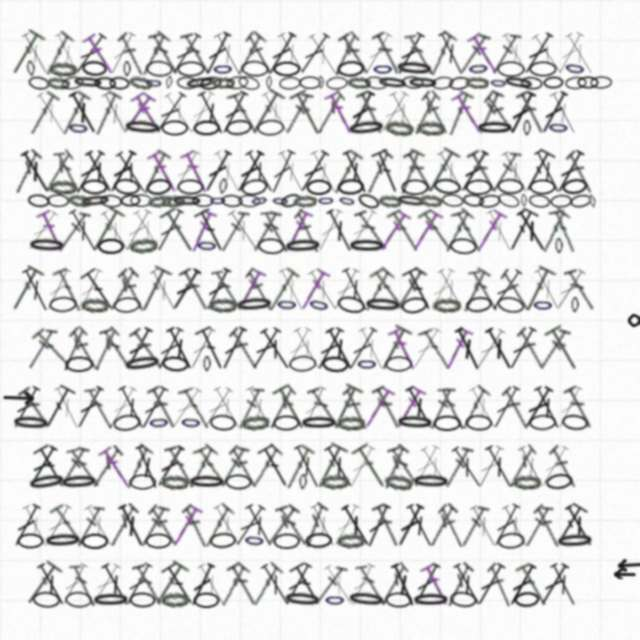chain: (26, 471, 68, 493), (122, 353, 163, 374), (346, 118, 387, 138), (394, 59, 435, 78), (122, 118, 163, 137), (234, 295, 275, 314), (282, 590, 323, 609), (346, 590, 387, 609), (283, 237, 323, 255), (363, 296, 403, 314), (11, 414, 51, 432), (59, 473, 99, 491), (555, 532, 595, 550), (27, 237, 67, 254), (395, 414, 435, 431), (411, 473, 451, 490), (43, 532, 83, 549), (475, 120, 515, 136), (347, 238, 387, 254), (299, 415, 339, 431), (187, 474, 227, 490), (91, 592, 131, 608), (411, 592, 451, 608), (336, 294, 366, 315), (383, 472, 414, 492), (502, 74, 535, 92), (240, 177, 269, 197), (400, 295, 429, 315), (496, 295, 525, 315), (128, 236, 158, 255), (112, 413, 142, 432), (240, 413, 270, 432), (384, 119, 414, 137), (225, 118, 253, 137), (113, 177, 141, 196), (145, 177, 173, 196), (433, 177, 461, 196), (561, 177, 589, 196), (465, 295, 493, 314), (561, 413, 589, 432), (545, 472, 573, 491), (449, 590, 477, 609), (184, 75, 217, 91), (376, 75, 409, 91), (79, 193, 112, 209), (395, 193, 428, 209), (257, 237, 285, 255), (449, 237, 477, 255), (113, 296, 141, 314), (161, 355, 189, 373), (321, 355, 349, 373), (356, 191, 381, 211), (320, 473, 349, 490), (336, 532, 365, 549), (32, 591, 61, 608), (160, 591, 189, 608), (72, 75, 104, 90), (307, 295, 331, 315), (145, 60, 173, 77), (241, 60, 269, 77), (49, 296, 77, 313), (209, 414, 237, 431), (209, 532, 237, 549), (497, 532, 525, 549), (496, 191, 521, 210), (48, 61, 77, 77), (416, 120, 445, 136), (48, 179, 77, 195), (80, 297, 109, 313), (208, 297, 237, 313), (432, 297, 461, 313), (336, 415, 365, 431), (160, 474, 189, 490), (512, 474, 541, 490), (81, 60, 108, 77), (337, 60, 364, 77), (257, 119, 284, 136), (337, 178, 364, 195), (497, 178, 524, 195), (289, 355, 316, 372), (465, 414, 492, 431), (529, 414, 556, 431), (305, 532, 332, 549), (65, 591, 92, 608), (563, 59, 587, 78), (279, 191, 303, 210), (177, 61, 205, 77), (497, 61, 525, 77), (529, 61, 557, 77), (407, 76, 439, 90), (401, 179, 429, 195), (171, 194, 203, 208), (65, 356, 93, 372), (433, 415, 461, 431), (514, 591, 540, 608), (273, 61, 300, 77), (237, 74, 261, 92), (161, 120, 188, 136), (193, 120, 220, 136), (81, 179, 108, 195), (177, 179, 204, 195), (465, 179, 492, 195), (529, 179, 556, 195), (97, 238, 124, 254), (385, 356, 412, 372), (273, 415, 300, 431), (129, 474, 156, 490), (225, 474, 252, 490), (17, 533, 44, 549), (81, 533, 108, 549), (145, 533, 172, 549), (273, 533, 300, 549), (129, 592, 156, 608), (193, 592, 220, 608), (385, 592, 412, 608), (128, 74, 153, 91), (306, 179, 332, 195), (67, 119, 90, 137), (147, 193, 172, 209), (467, 60, 490, 77), (547, 119, 570, 136), (243, 532, 266, 549), (27, 75, 51, 91), (364, 75, 388, 91), (569, 193, 593, 209), (67, 193, 92, 208), (418, 193, 443, 208), (196, 237, 218, 254), (276, 296, 298, 313), (148, 414, 170, 431), (180, 414, 202, 431), (61, 75, 84, 91), (199, 75, 222, 91), (431, 75, 454, 91), (448, 75, 471, 91), (478, 193, 501, 209), (528, 193, 551, 209), (212, 61, 234, 77), (372, 61, 394, 77), (532, 297, 554, 313), (356, 356, 378, 372), (324, 592, 346, 608), (226, 75, 249, 90), (401, 75, 424, 90), (27, 193, 50, 208), (441, 193, 464, 208), (462, 193, 485, 208), (46, 76, 70, 90), (161, 194, 185, 208), (293, 194, 317, 208), (378, 194, 402, 208), (176, 76, 199, 90), (520, 76, 543, 90), (337, 193, 357, 209), (211, 76, 235, 89), (347, 76, 371, 89), (465, 76, 489, 89), (94, 76, 116, 90), (279, 76, 301, 90), (326, 76, 348, 90), (565, 76, 587, 90), (100, 194, 122, 208), (221, 194, 243, 208), (238, 194, 260, 208), (550, 194, 572, 208), (109, 76, 130, 90), (299, 76, 321, 89), (577, 76, 599, 89), (590, 76, 612, 89), (47, 194, 69, 207), (130, 194, 152, 207), (192, 194, 214, 207), (250, 193, 269, 208), (543, 76, 564, 89), (120, 194, 141, 207), (489, 76, 508, 90), (271, 194, 290, 208), (145, 76, 163, 90), (209, 194, 227, 207), (317, 194, 335, 207), (26, 60, 36, 77), (218, 178, 228, 195), (123, 61, 131, 77), (523, 120, 531, 136), (555, 238, 563, 254), (571, 297, 579, 313), (203, 356, 211, 372), (299, 474, 307, 490), (588, 194, 597, 208), (165, 76, 173, 89), (266, 76, 272, 89), (318, 76, 324, 89), (521, 194, 527, 207)
double: (21, 560, 63, 609), (159, 206, 200, 255), (351, 442, 392, 491), (149, 560, 190, 609), (79, 266, 120, 314), (6, 29, 46, 78), (246, 88, 286, 137), (86, 206, 126, 255), (544, 324, 584, 373), (160, 560, 200, 609), (30, 326, 73, 371), (422, 147, 461, 196), (6, 265, 45, 314), (272, 383, 311, 432), (32, 442, 71, 491), (256, 442, 295, 491), (550, 501, 589, 550), (288, 560, 327, 609), (289, 88, 327, 138), (135, 265, 173, 315), (519, 265, 557, 315), (375, 324, 413, 374), (311, 442, 349, 492), (519, 147, 557, 196), (39, 383, 77, 432), (327, 383, 364, 433), (224, 207, 263, 254), (416, 207, 455, 254), (262, 266, 301, 313), (368, 266, 407, 313), (192, 443, 231, 490), (246, 443, 285, 490), (48, 502, 87, 549), (23, 89, 61, 137), (417, 325, 455, 373), (247, 561, 285, 609), (193, 206, 230, 255), (503, 206, 540, 255), (401, 265, 438, 314), (70, 31, 109, 77), (528, 31, 567, 77), (551, 266, 589, 313), (39, 30, 76, 78), (231, 30, 268, 78), (55, 89, 92, 137), (327, 148, 364, 196), (385, 207, 422, 255), (439, 207, 476, 255), (359, 266, 396, 314), (177, 384, 214, 432), (183, 443, 220, 491), (279, 443, 316, 491), (199, 502, 236, 550), (215, 561, 252, 609), (194, 324, 230, 373), (128, 326, 167, 371), (295, 31, 333, 77), (119, 90, 157, 136), (151, 90, 189, 136), (23, 208, 61, 254), (487, 267, 525, 313), (17, 385, 55, 431), (167, 385, 205, 431), (263, 503, 301, 549), (17, 148, 54, 195), (295, 148, 332, 195), (247, 325, 284, 372), (519, 384, 556, 431), (321, 443, 358, 490), (81, 502, 118, 549), (87, 561, 124, 608), (136, 30, 172, 78), (210, 30, 246, 78), (392, 30, 428, 78), (226, 89, 262, 137), (136, 148, 172, 196), (450, 207, 486, 255), (536, 207, 572, 255), (146, 266, 182, 314), (456, 266, 492, 314), (322, 325, 358, 373), (456, 384, 492, 432), (466, 502, 502, 550), (504, 561, 540, 609), (514, 561, 550, 609), (370, 147, 405, 196), (81, 31, 118, 77), (167, 31, 204, 77), (305, 31, 342, 77), (337, 31, 374, 77), (33, 90, 70, 136), (129, 90, 166, 136), (161, 90, 198, 136), (113, 149, 150, 195), (97, 208, 134, 254), (375, 208, 412, 254), (305, 267, 342, 313), (257, 326, 294, 372), (471, 326, 508, 372), (199, 385, 236, 431), (97, 444, 134, 490), (417, 444, 454, 490), (449, 444, 486, 490), (231, 503, 268, 549), (321, 562, 358, 608), (274, 30, 310, 77), (466, 30, 502, 77), (498, 30, 534, 77), (520, 30, 556, 77), (562, 30, 598, 77), (258, 89, 294, 136), (376, 89, 412, 136), (450, 89, 486, 136), (72, 148, 108, 195), (210, 148, 246, 195), (242, 148, 278, 195), (402, 148, 438, 195), (456, 148, 492, 195), (130, 207, 166, 254), (344, 207, 380, 254), (408, 207, 444, 254), (472, 207, 508, 254), (514, 207, 550, 254), (168, 266, 204, 313), (392, 266, 428, 313), (344, 325, 380, 372), (408, 325, 444, 372), (504, 325, 540, 372), (104, 384, 140, 431), (360, 384, 396, 431), (24, 443, 60, 490), (152, 443, 188, 490), (536, 443, 572, 490), (168, 502, 204, 549), (338, 502, 374, 549), (98, 561, 134, 608), (194, 561, 230, 608), (258, 561, 294, 608), (472, 561, 508, 608), (536, 561, 572, 608), (424, 30, 459, 78), (88, 89, 123, 137), (98, 89, 133, 137), (194, 89, 229, 137), (546, 89, 581, 137), (498, 148, 533, 196), (152, 325, 187, 373), (312, 325, 347, 373), (136, 384, 171, 432), (120, 443, 155, 491), (344, 443, 379, 491), (472, 443, 507, 491), (514, 443, 549, 491), (498, 502, 533, 550), (18, 30, 53, 77), (264, 30, 299, 77), (360, 30, 395, 77), (66, 89, 101, 136), (386, 89, 421, 136), (82, 148, 117, 195), (146, 148, 181, 195), (200, 148, 235, 195), (232, 148, 267, 195), (434, 148, 469, 195), (466, 148, 501, 195), (552, 148, 587, 195), (66, 207, 101, 254), (120, 207, 155, 254), (152, 207, 187, 254), (178, 266, 213, 313), (296, 266, 331, 313), (328, 266, 363, 313), (434, 266, 469, 313), (290, 325, 325, 372), (482, 325, 517, 372), (8, 384, 43, 431), (72, 384, 107, 431), (146, 384, 181, 431), (210, 384, 245, 431), (392, 384, 427, 431), (402, 384, 437, 431), (466, 384, 501, 431), (488, 384, 523, 431), (482, 443, 517, 490), (40, 502, 75, 549), (210, 502, 245, 549), (242, 502, 277, 549), (562, 502, 597, 549), (34, 561, 69, 608), (226, 561, 261, 608), (280, 561, 315, 608), (450, 561, 485, 608), (51, 30, 85, 78), (441, 89, 475, 137), (505, 89, 539, 137), (19, 266, 53, 314), (51, 266, 85, 314), (425, 266, 459, 314), (451, 325, 485, 373), (19, 502, 53, 550), (345, 561, 379, 609), (87, 445, 124, 489), (104, 267, 140, 312), (104, 503, 140, 548), (393, 147, 426, 196), (105, 30, 139, 77), (371, 30, 405, 77), (553, 30, 587, 77), (217, 89, 251, 136), (323, 89, 357, 136), (515, 89, 549, 136), (537, 89, 571, 136), (105, 148, 139, 195), (169, 148, 203, 195), (275, 148, 309, 195), (307, 148, 341, 195), (531, 148, 565, 195), (323, 207, 357, 254), (483, 207, 517, 254), (233, 266, 267, 313), (275, 266, 309, 313), (531, 266, 565, 313), (121, 325, 155, 372), (163, 325, 197, 372), (185, 325, 219, 372), (281, 325, 315, 372), (355, 325, 389, 372), (115, 384, 149, 431), (371, 384, 405, 431), (531, 384, 565, 431), (563, 384, 597, 431), (409, 443, 443, 490), (9, 502, 43, 549), (115, 502, 149, 549), (329, 502, 363, 549), (393, 502, 427, 549), (403, 502, 437, 549), (489, 502, 523, 549), (57, 561, 91, 608), (121, 561, 155, 608), (409, 561, 443, 608), (419, 561, 453, 608), (547, 561, 581, 608), (482, 91, 518, 135), (339, 148, 372, 196), (35, 207, 68, 255), (73, 266, 106, 314), (66, 445, 102, 489), (312, 563, 348, 607), (387, 561, 420, 609), (354, 208, 389, 253), (146, 503, 181, 548), (424, 503, 459, 548), (548, 206, 580, 255), (9, 149, 43, 195), (99, 326, 133, 372), (307, 385, 341, 431), (387, 444, 421, 490), (275, 503, 309, 549), (441, 562, 475, 608), (201, 30, 234, 77), (435, 30, 468, 77), (185, 89, 218, 136), (345, 89, 378, 136), (355, 89, 388, 136), (179, 148, 212, 195), (281, 207, 314, 254), (313, 207, 346, 254), (41, 266, 74, 313), (201, 266, 234, 313), (339, 266, 372, 313), (217, 325, 250, 372), (387, 325, 420, 372), (441, 325, 474, 372), (51, 384, 84, 431), (243, 384, 276, 431), (553, 384, 586, 431), (291, 443, 324, 490), (307, 502, 340, 549), (371, 502, 404, 549), (56, 209, 91, 253), (498, 268, 533, 312), (266, 148, 298, 196), (186, 207, 218, 255), (298, 384, 330, 432), (362, 502, 394, 550), (186, 561, 218, 609), (457, 31, 491, 76), (313, 90, 347, 135), (41, 149, 75, 194), (67, 326, 101, 371), (227, 326, 261, 371), (537, 326, 571, 371), (361, 149, 394, 195), (474, 89, 505, 137), (132, 443, 163, 491), (243, 31, 276, 76), (489, 31, 522, 76), (419, 90, 452, 135), (489, 149, 522, 194), (211, 267, 244, 312), (243, 267, 276, 312), (25, 326, 58, 371), (515, 326, 548, 371), (265, 385, 298, 430), (57, 444, 90, 489), (217, 444, 250, 489), (227, 444, 260, 489), (505, 444, 538, 489), (547, 444, 580, 489), (355, 562, 388, 607), (377, 562, 410, 607), (148, 31, 180, 77), (180, 31, 212, 77), (404, 31, 436, 77), (282, 90, 314, 136), (410, 90, 442, 136), (564, 149, 596, 195), (218, 208, 250, 254), (250, 208, 282, 254), (116, 267, 148, 313), (468, 267, 500, 313), (564, 267, 596, 313), (500, 385, 532, 431), (164, 444, 196, 490), (378, 444, 410, 490), (442, 444, 474, 490), (138, 503, 170, 549), (458, 503, 490, 549), (522, 503, 554, 549), (132, 562, 164, 608), (116, 31, 147, 77), (330, 31, 361, 77), (260, 208, 291, 254), (292, 208, 323, 254), (90, 326, 121, 372), (84, 385, 115, 431), (74, 503, 105, 549), (180, 503, 211, 549), (436, 503, 467, 549), (532, 503, 563, 549), (299, 502, 329, 549), (53, 149, 83, 195), (59, 326, 89, 372), (235, 385, 265, 431), (341, 385, 371, 431), (437, 385, 467, 431), (485, 562, 515, 608), (427, 385, 456, 431), (69, 562, 98, 608)
noise: (2, 391, 36, 405), (615, 558, 640, 572), (611, 569, 636, 579), (626, 312, 640, 328)
